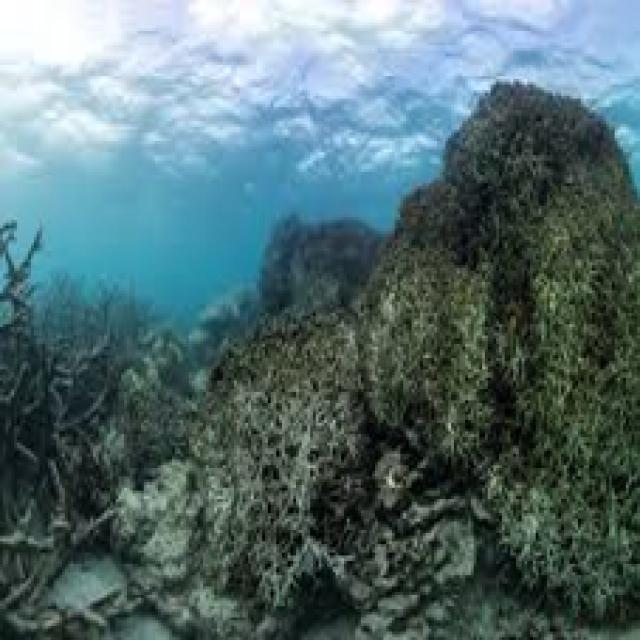Dead Coral: (179, 81, 640, 632), (0, 214, 152, 584)
